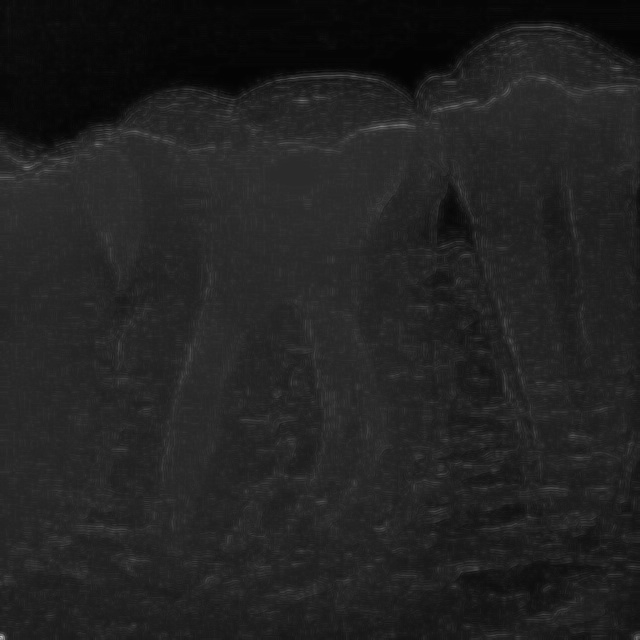Class 0- No endodontic treatment: (60, 80, 519, 623)
